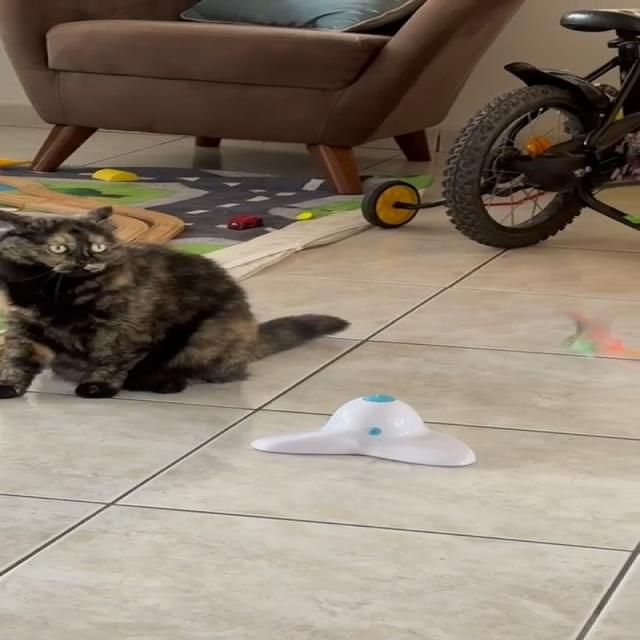authorized: (0, 204, 351, 398)
